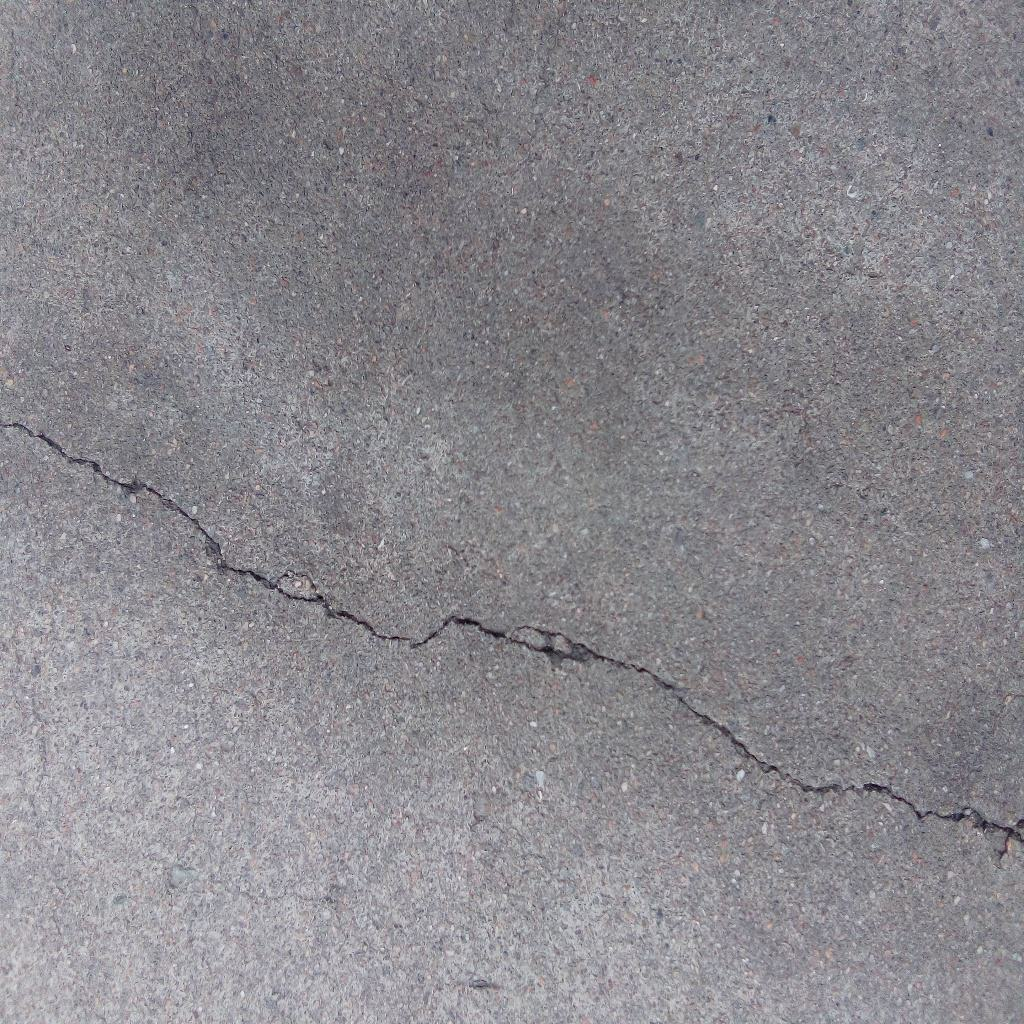Crack: (1, 419, 1024, 864)
